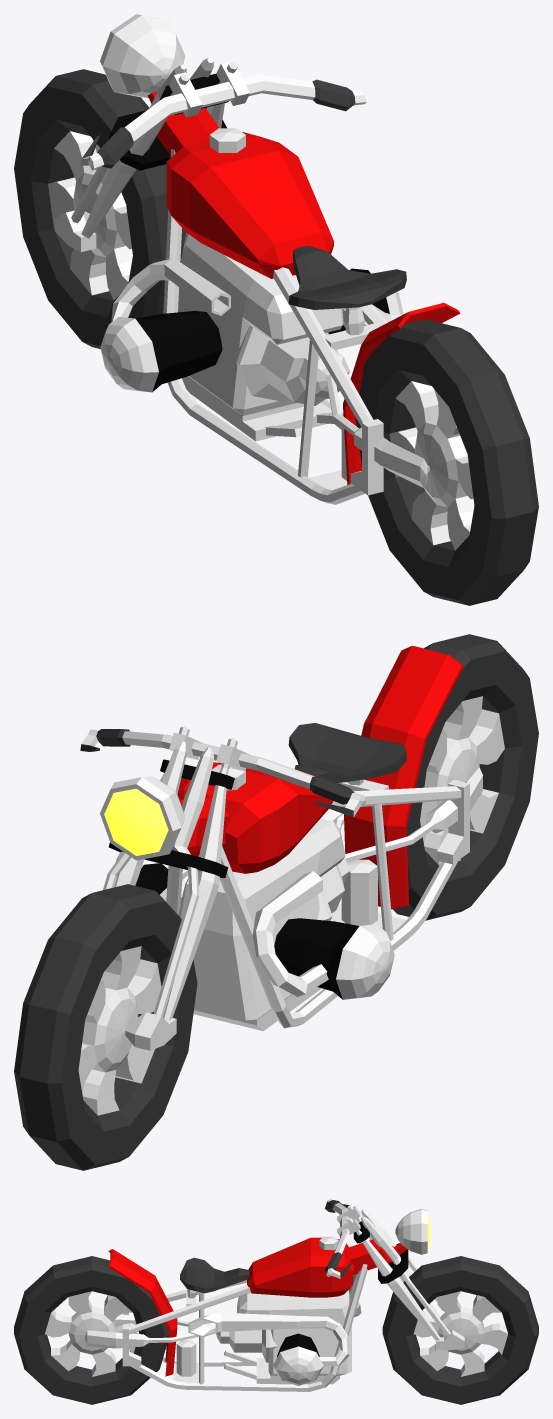
File: chopper.glb
The picture shows the model from 3 angles, top to bottom: view 1: azimuth 30°, elevation 25°; view 2: azimuth 150°, elevation 25°; view 3: azimuth 270°, elevation 25°; orthographic projection. The views are drawn at different scales.
Visible parts, largest first — view 1: motorcycle, .b, .f; view 2: motorcycle, .f, .b; view 3: motorcycle, .f, .b.
Part boxes in pixels (x1,y1,x2,y2): motorcycle: (54, 14, 460, 504); .b: (355, 319, 538, 605); .f: (14, 69, 186, 348); motorcycle: (80, 645, 482, 1050); .f: (14, 884, 197, 1170); .b: (393, 634, 538, 920); motorcycle: (84, 1199, 464, 1391); .f: (382, 1256, 538, 1404); .b: (14, 1256, 169, 1404).
Size of the model in its own units: 317 by 390 by 968.
